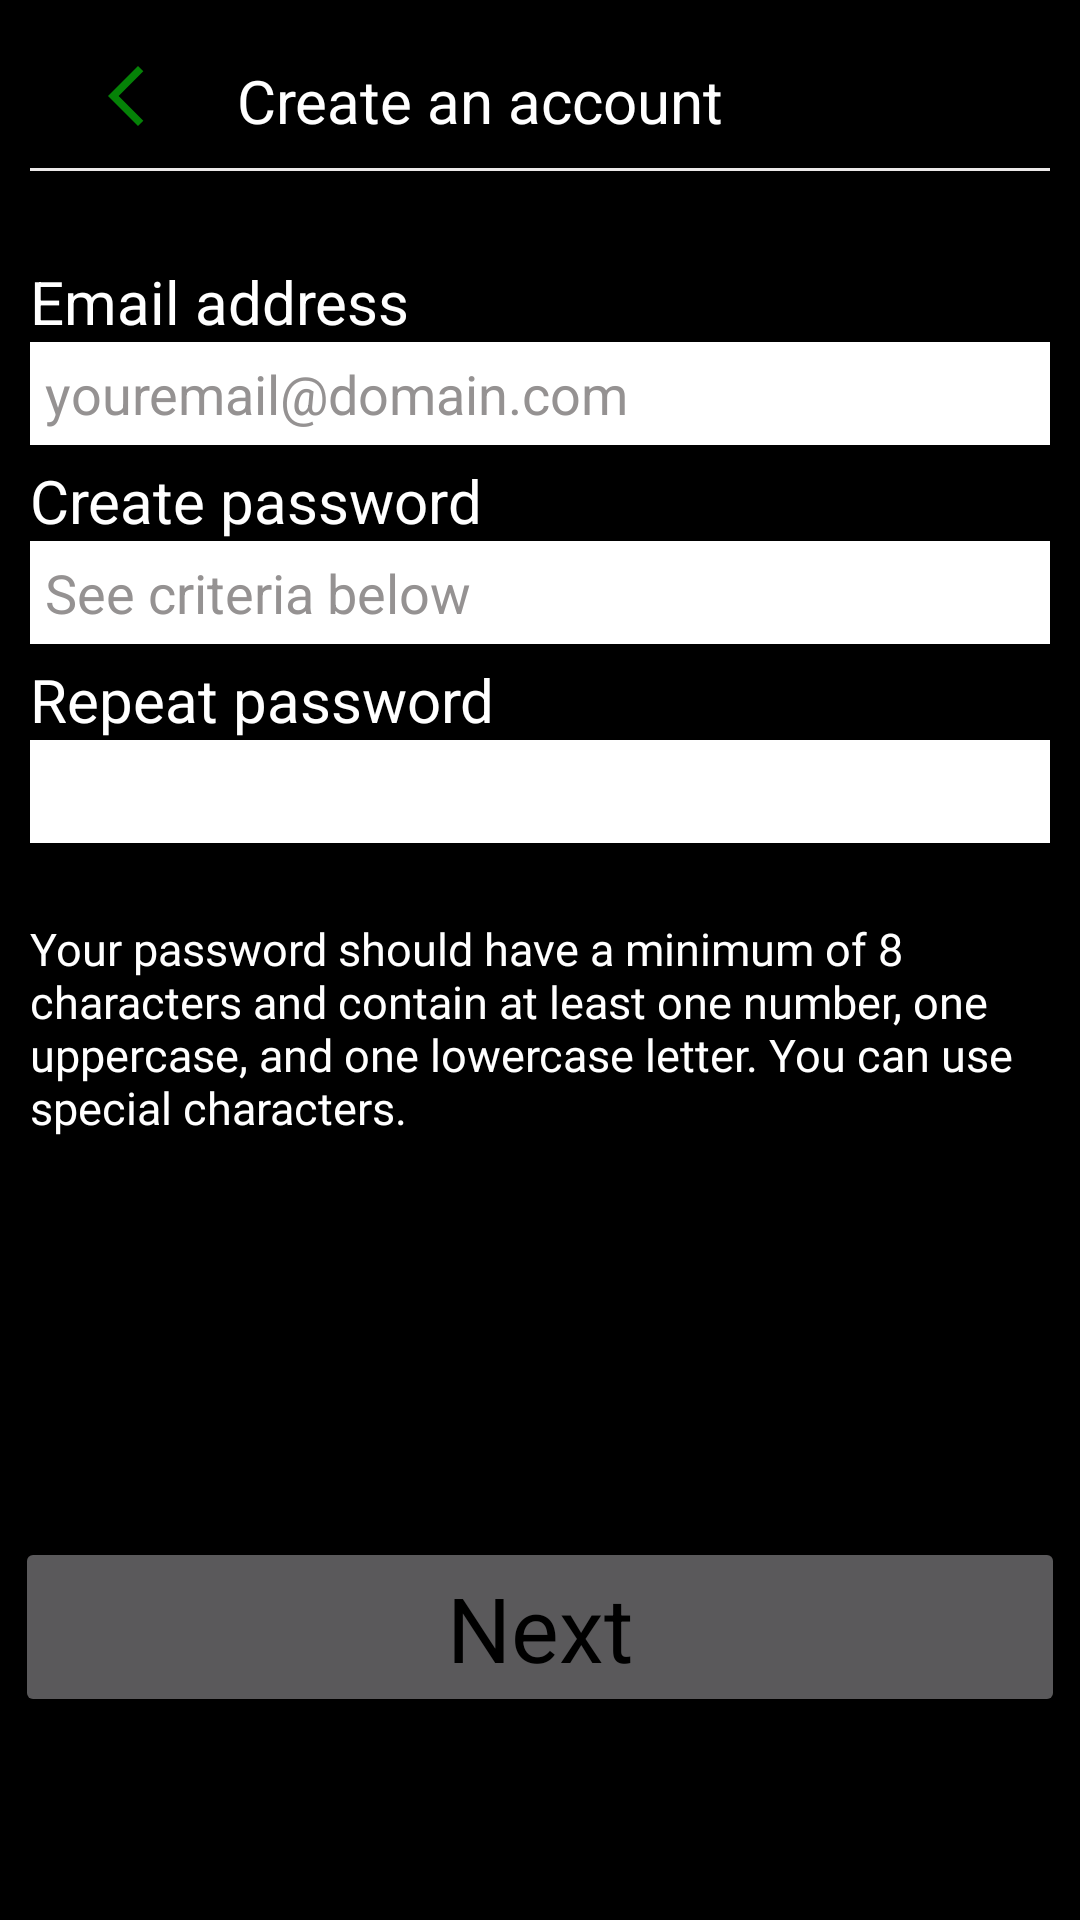

Icon bounding boxes for this 1080px×1920px phone screenshot, format (x1, y1, x2, y2):
back arrow: (108, 66, 143, 126)
